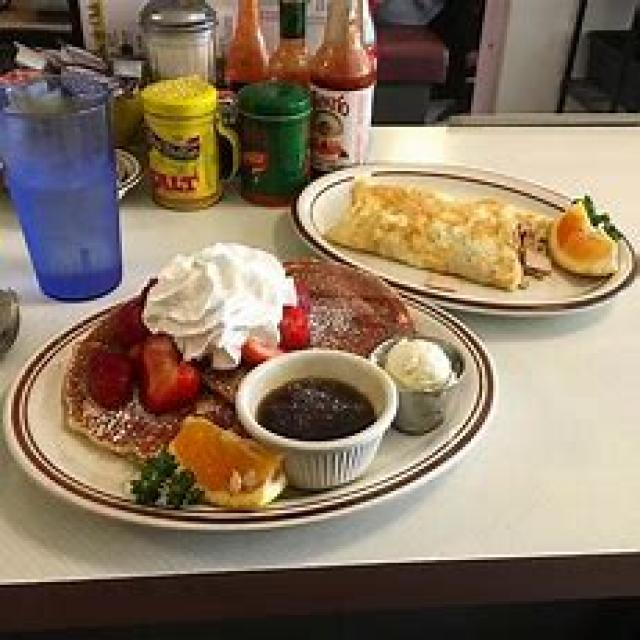Omelette: (330, 171, 554, 292)
Pancakes: (56, 259, 421, 447)
